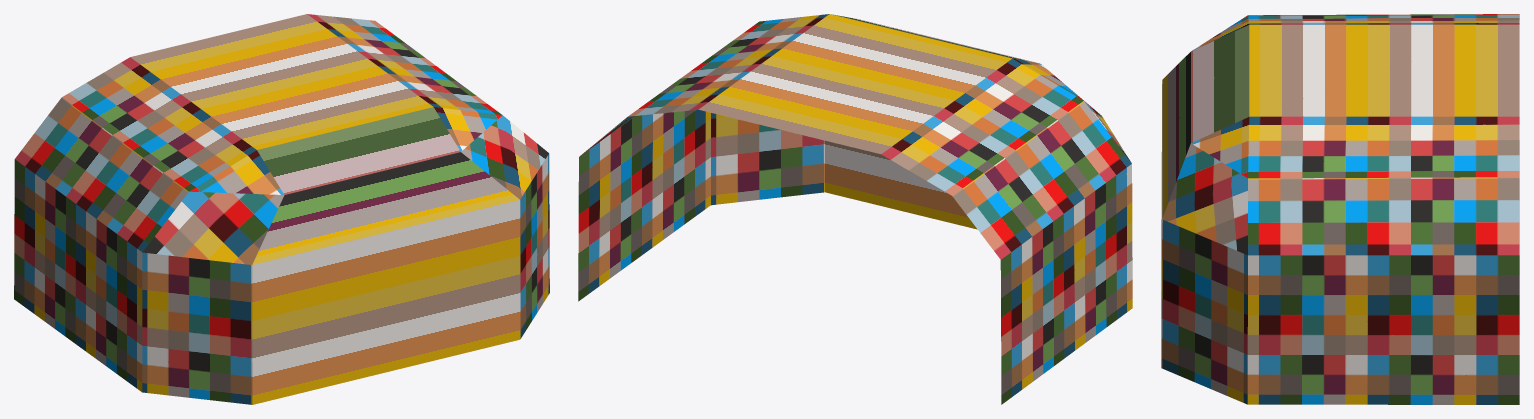
The model's file is Conserv Glass.fbx.
3 views of the same model, side by side, from view 1: azimuth 30°, elevation 25°; view 2: azimuth 150°, elevation 25°; view 3: azimuth 270°, elevation 25° (orthographic). The views are drawn at different scales.
Parts seen in each view (by area): view 1: Conserv Glass; view 2: Conserv Glass; view 3: Conserv Glass.
Boxes of the visible parts, x1=… form: Conserv Glass: x1=14, y1=14, x2=549, y2=404; Conserv Glass: x1=578, y1=14, x2=1132, y2=404; Conserv Glass: x1=1161, y1=14, x2=1519, y2=404.
Size of the model in its own units: 470 by 334 by 235.
